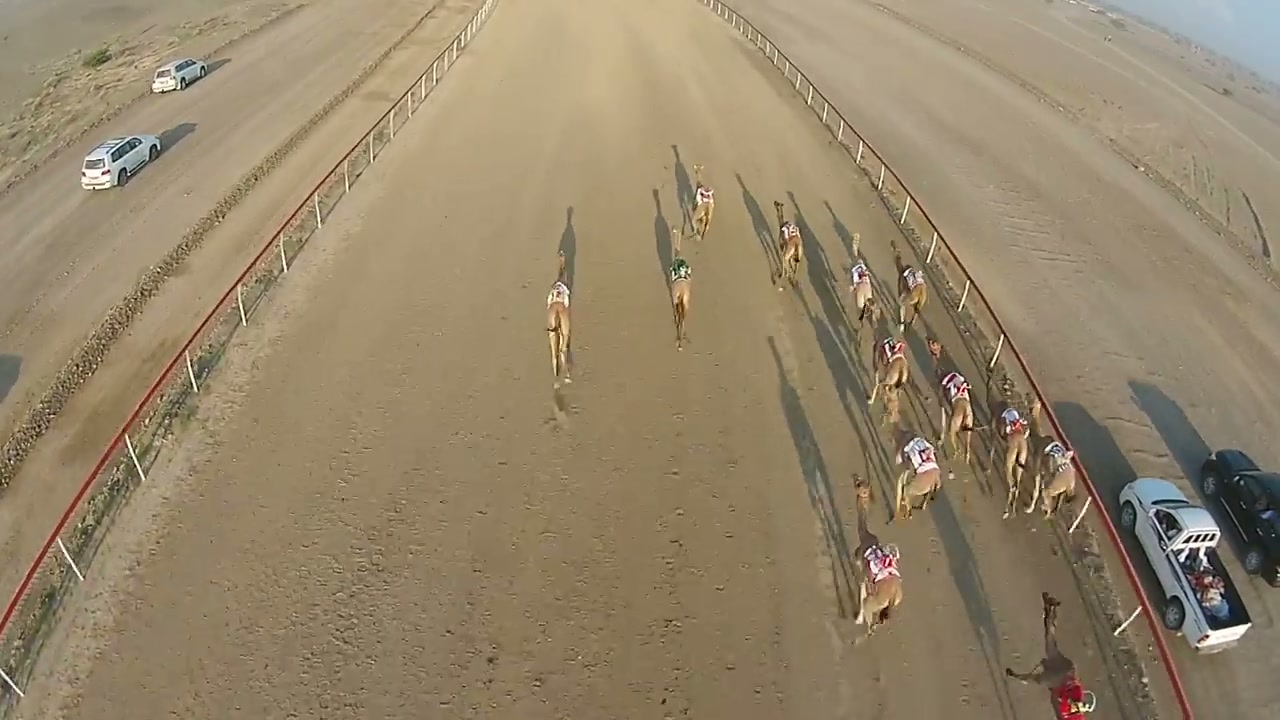animal_footprint: (718, 530, 737, 542), (318, 696, 334, 710), (672, 411, 688, 424), (726, 461, 740, 474), (712, 584, 728, 595), (751, 685, 764, 697), (339, 444, 352, 456), (929, 534, 940, 548), (668, 470, 683, 480), (331, 566, 345, 576), (538, 622, 548, 634), (534, 678, 544, 690), (676, 509, 686, 520), (960, 696, 970, 707), (711, 490, 722, 500), (367, 532, 378, 542), (358, 564, 369, 574), (742, 635, 754, 644), (740, 563, 749, 574), (726, 664, 738, 672), (970, 645, 979, 655), (1013, 652, 1024, 660), (729, 506, 739, 514), (471, 703, 481, 711), (960, 680, 969, 688), (460, 685, 470, 689)
